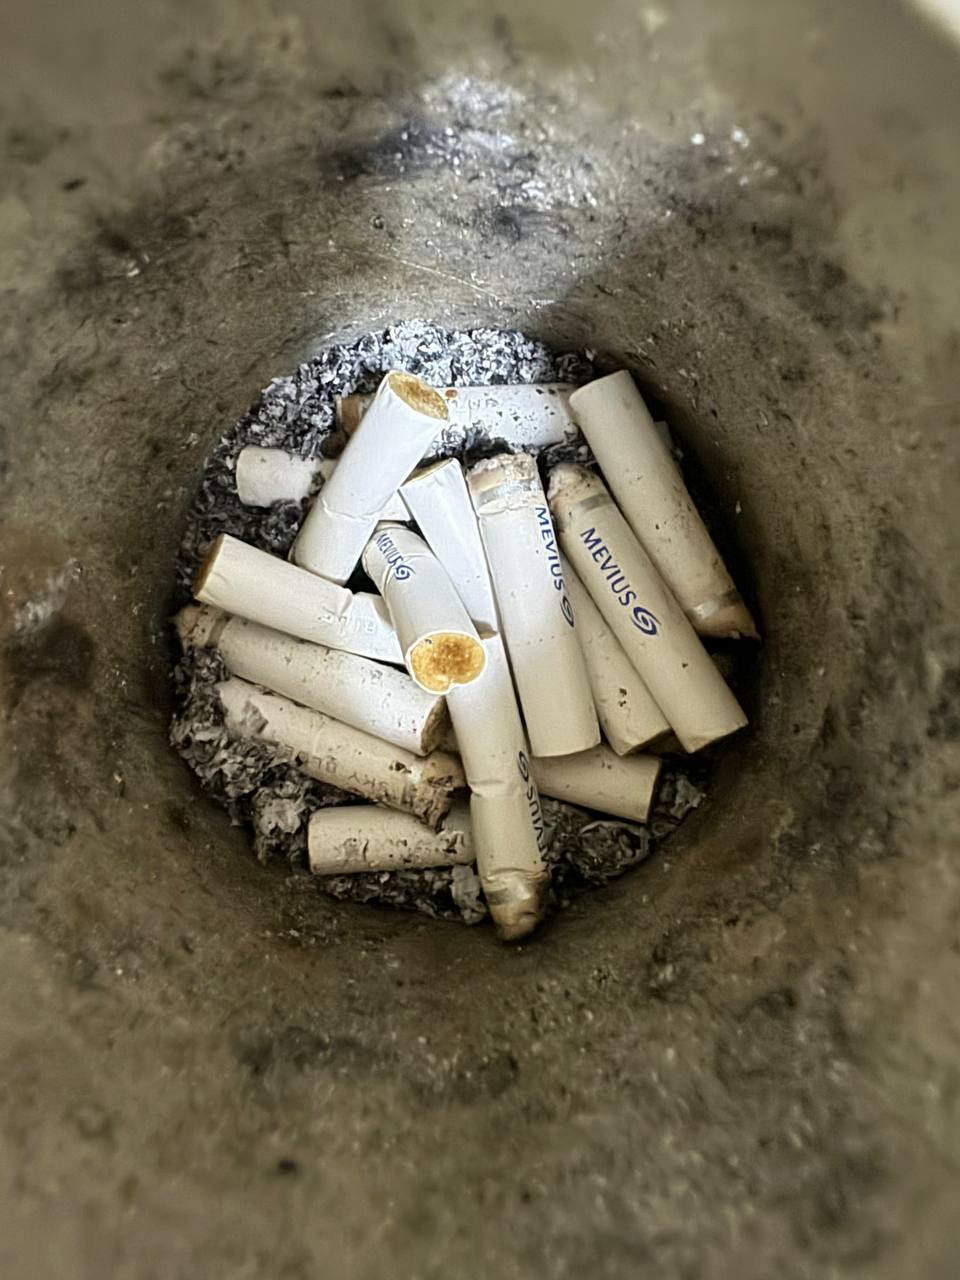trash: (538, 451, 752, 765), (568, 359, 757, 649), (460, 435, 608, 763), (208, 673, 468, 829), (182, 530, 448, 678), (281, 361, 453, 591), (438, 623, 557, 946), (326, 347, 592, 451), (298, 789, 557, 883), (354, 519, 485, 693)
